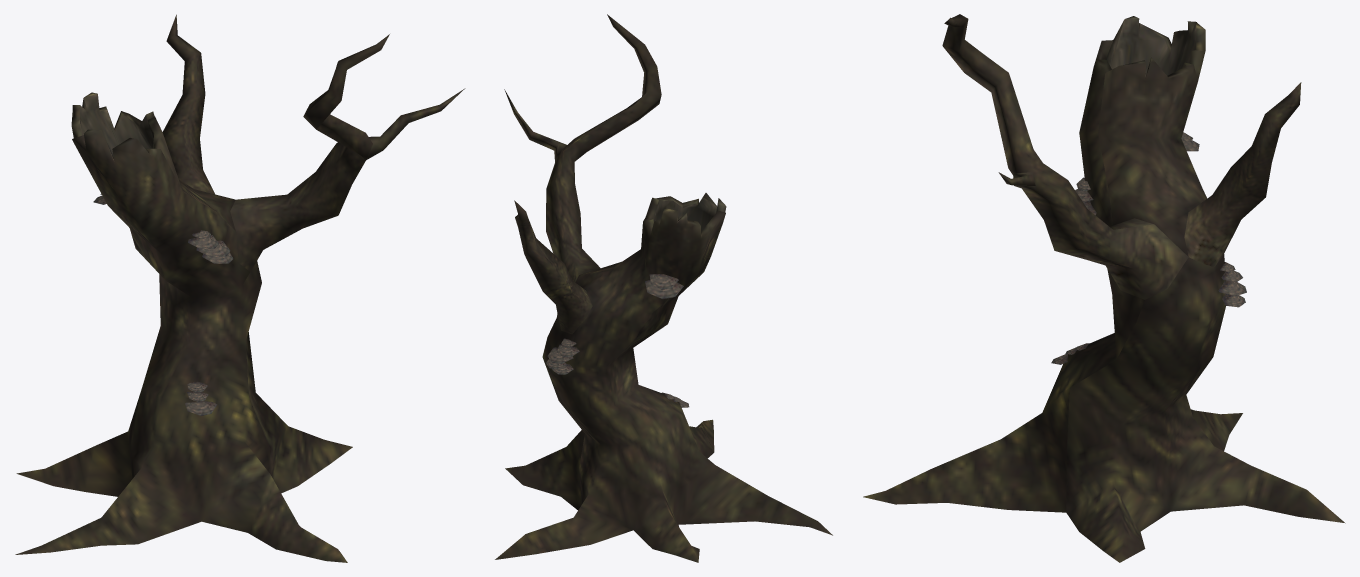
The model's file is SM_EN_Tree_02.FBX.
3 renders of one model, left to right at view 1: azimuth 30°, elevation 25°; view 2: azimuth 150°, elevation 25°; view 3: azimuth 270°, elevation 25°, orthographic. The views are drawn at different scales.
Visible parts, largest first — view 1: SM_EN_Tree_02; view 2: SM_EN_Tree_02; view 3: SM_EN_Tree_02.
Boxes of the visible parts, box(x1,y1,x2,y2) form: SM_EN_Tree_02: box(15, 14, 465, 562); SM_EN_Tree_02: box(495, 14, 832, 562); SM_EN_Tree_02: box(863, 14, 1345, 562).
Size of the model in its own units: 462 by 517 by 425.
